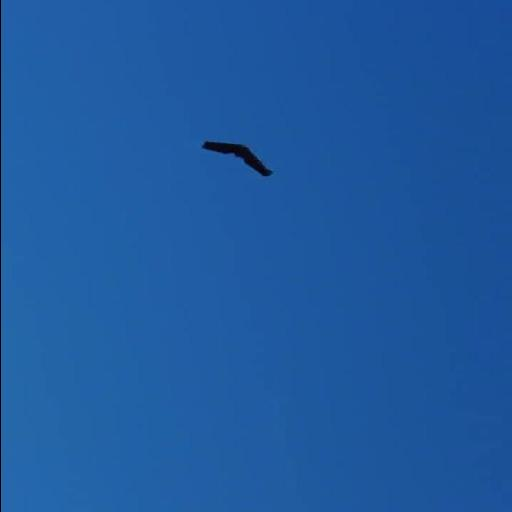uav: (194, 138, 274, 180)
